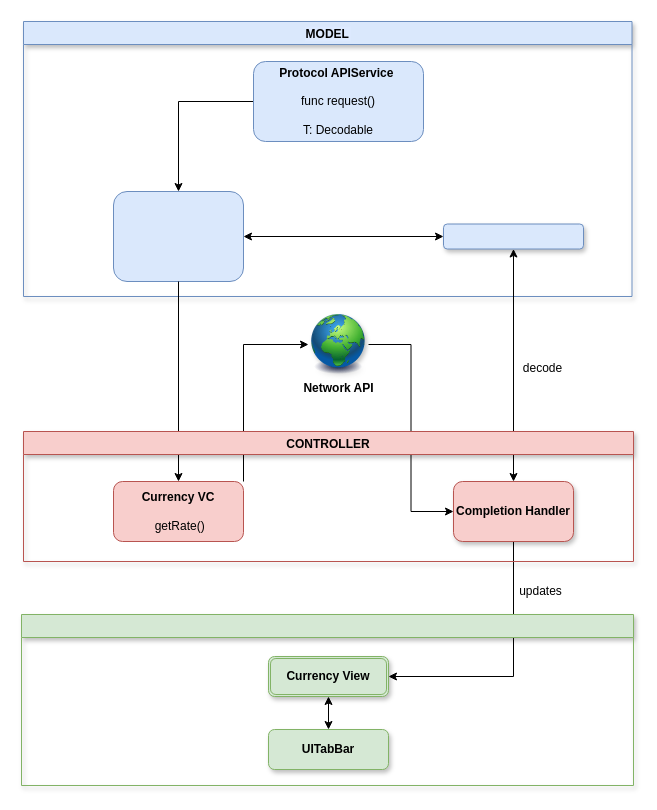
The diagram is 657 pixels wide and 810 high, and some of its shapes have lost their labels. The shapes that lost their labels are listed below. From the top down, each one's centre as x and y in pixels, then its label:
point (178, 236): class FixerAPI func getRate() { request() }
point (514, 237): T: Currency
point (328, 701): VIEW
